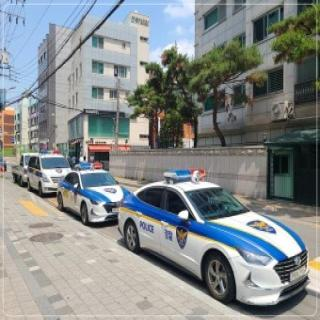Police_car: (118, 166, 316, 311), (56, 160, 136, 228), (28, 148, 72, 196)
